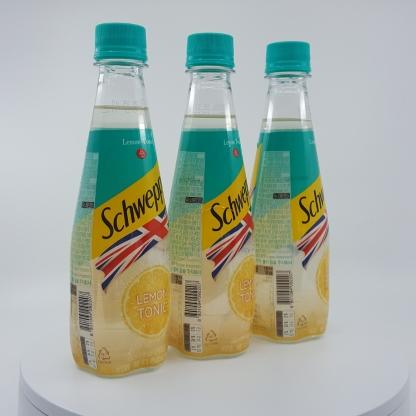-------350ML: (69, 22, 172, 376), (162, 32, 256, 358), (241, 41, 329, 342)
